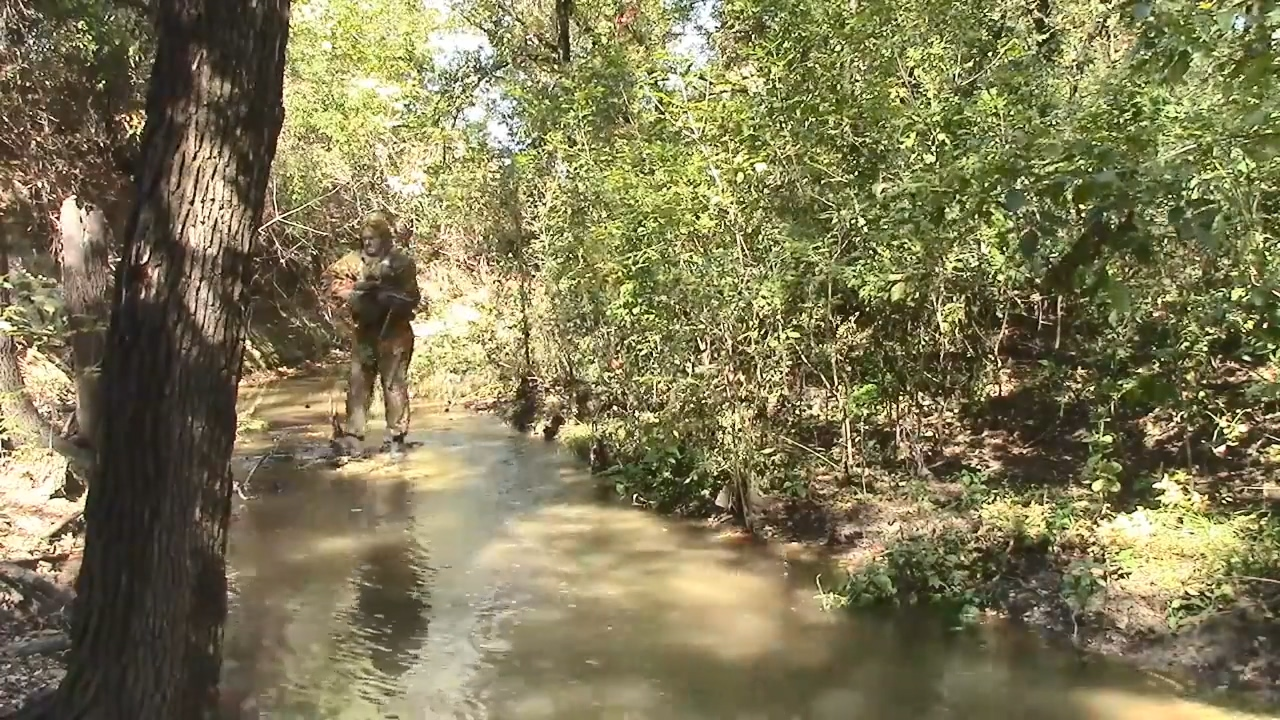person: (309, 199, 429, 471)
